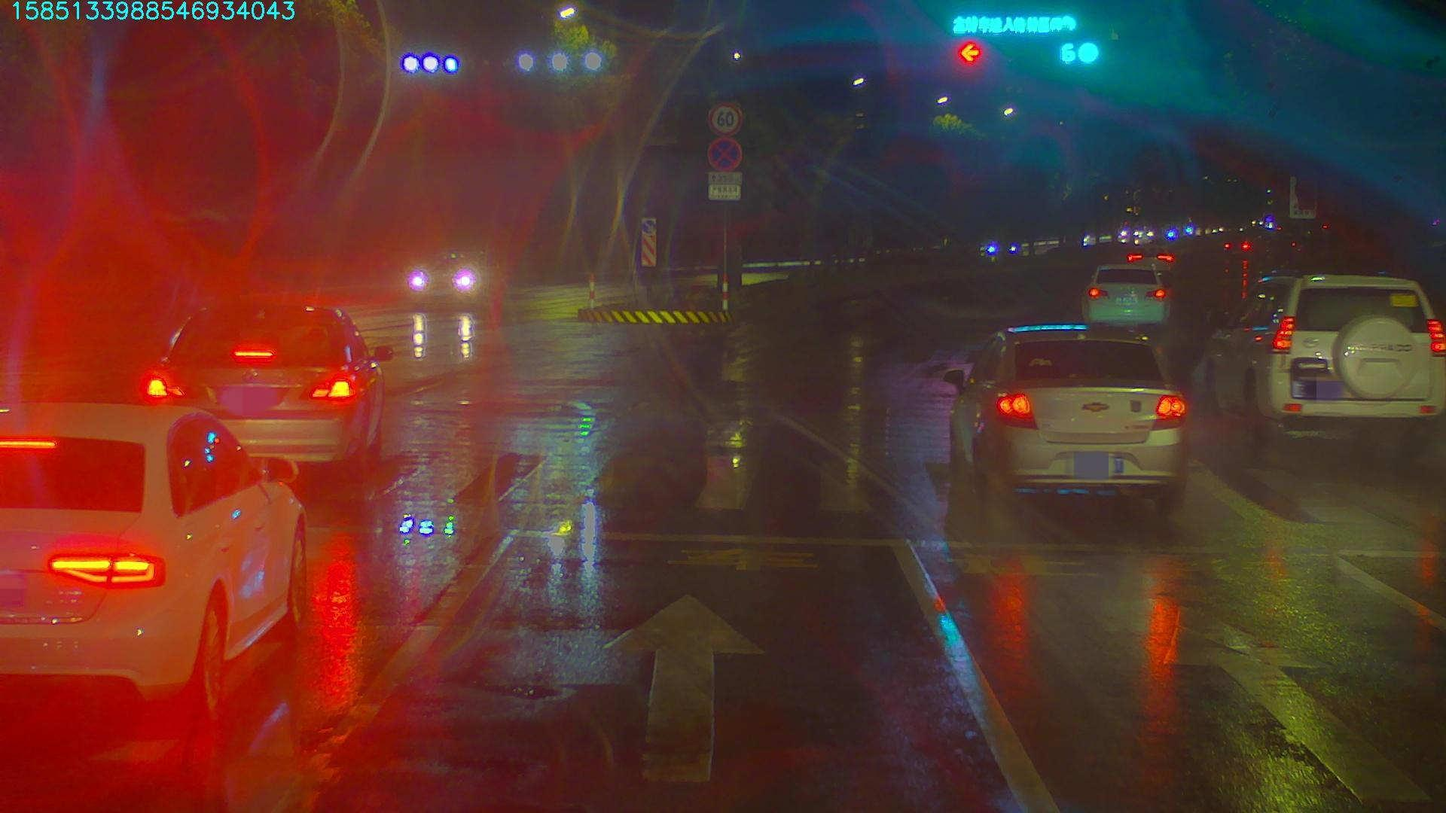green: (1057, 35, 1106, 64)
red: (950, 36, 983, 64)
wait_on: (943, 11, 1081, 34)
